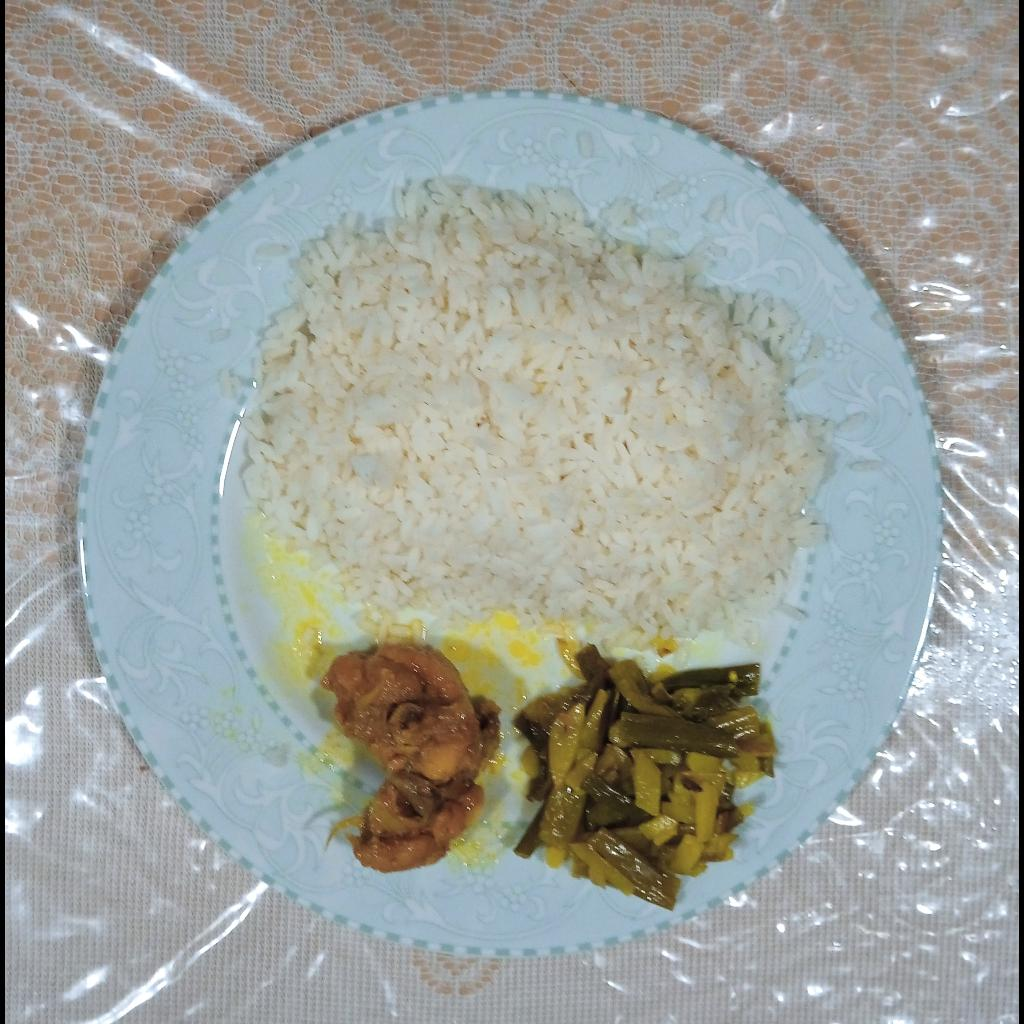chicken: (325, 649, 488, 868)
rice: (254, 181, 827, 631)
vegetable: (503, 666, 779, 906)
